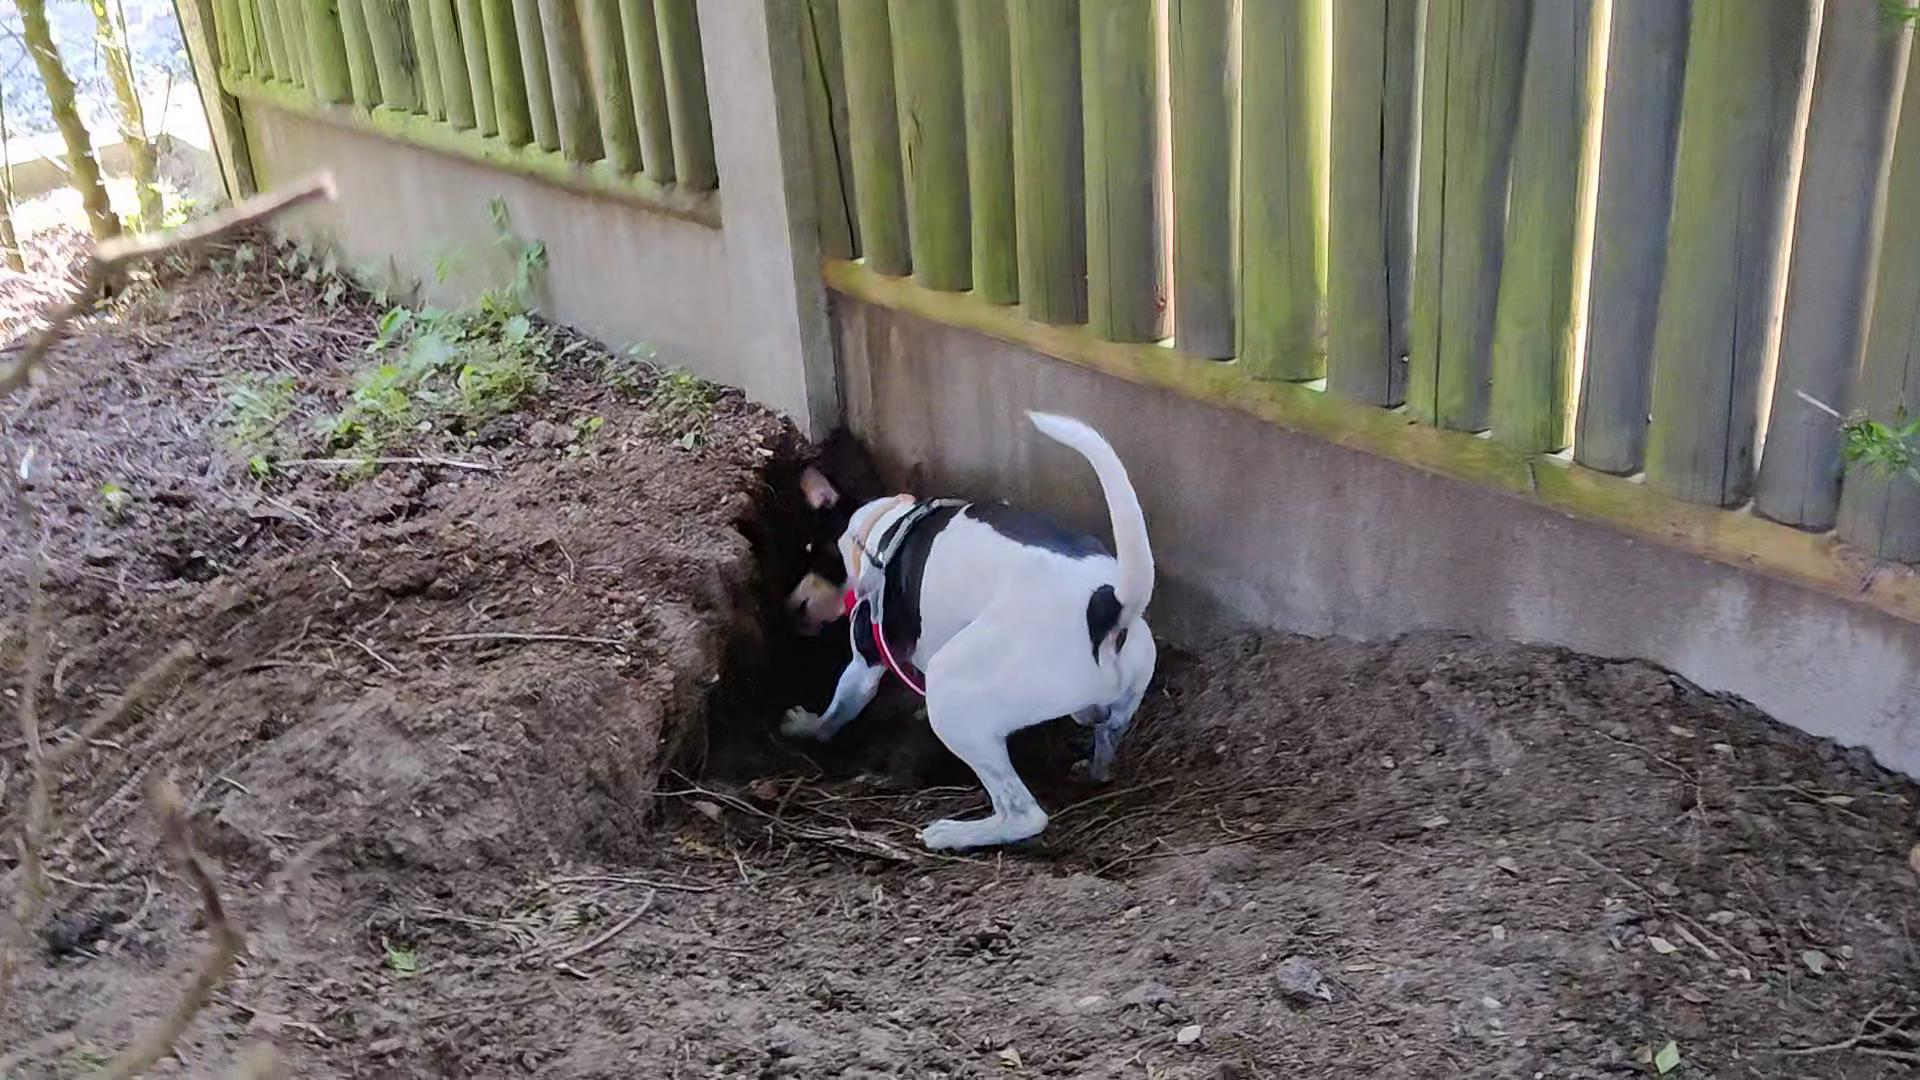Dog: (773, 404, 1175, 861)
